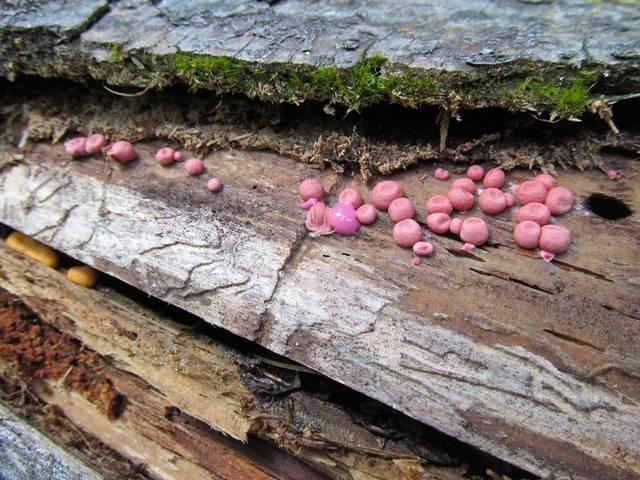poisonous_mushroom: (297, 163, 575, 261), (4, 229, 58, 268), (326, 200, 360, 235), (458, 215, 489, 246), (391, 217, 422, 247), (106, 139, 137, 165), (65, 264, 98, 287), (298, 176, 323, 201), (183, 156, 204, 176), (154, 145, 174, 165), (205, 176, 223, 193)
